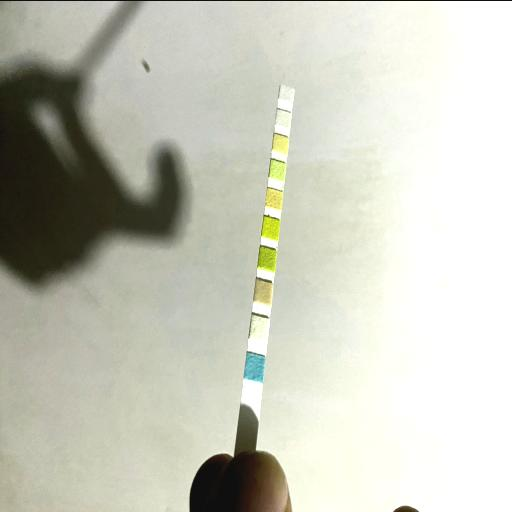Bilirubin: (251, 318, 267, 340)
Blood: (263, 218, 278, 236)
Glucose: (246, 355, 262, 377)
Ketone: (256, 282, 272, 302)
Leukocytes: (280, 87, 292, 101)
Nitrite: (276, 111, 290, 125)
Protein: (270, 162, 286, 178)
SpGravity: (260, 249, 274, 267)
Urobilinogen: (274, 136, 288, 151)
pH: (266, 190, 282, 206)
strip: (235, 83, 295, 446)
